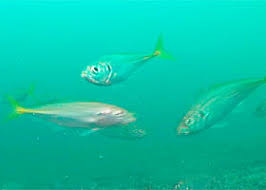azi: (171, 73, 261, 136), (81, 32, 174, 92), (4, 93, 135, 132)
